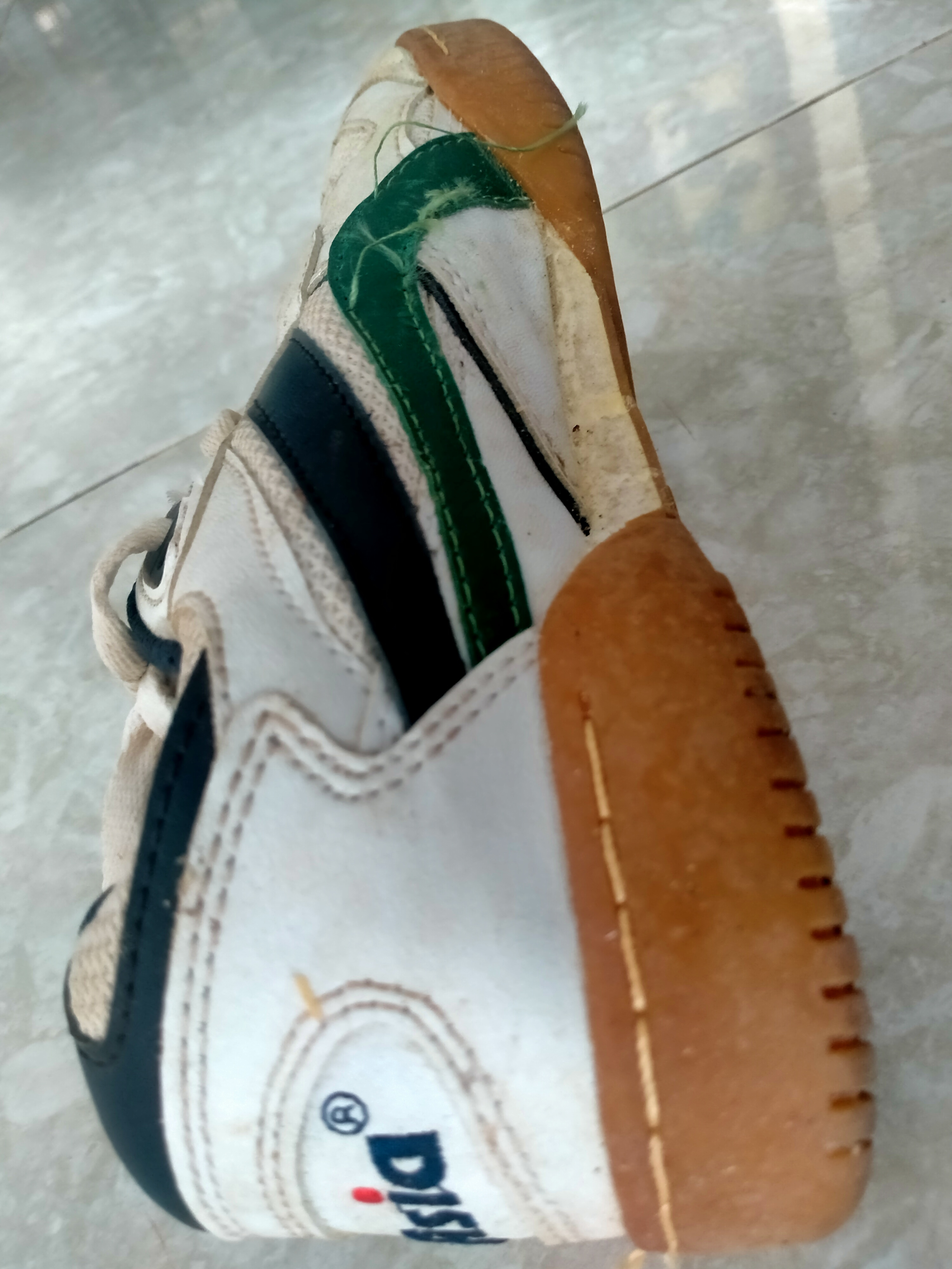broken: (323, 190, 377, 315), (387, 186, 448, 286)
